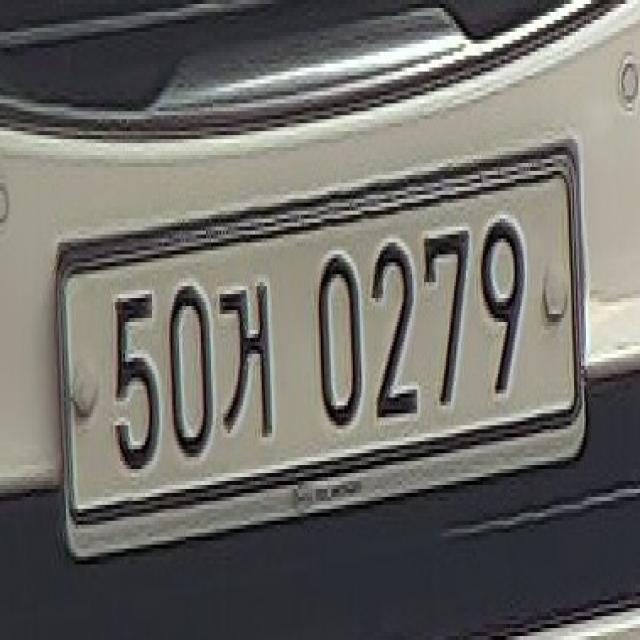0: (314, 250, 366, 430), (166, 273, 213, 466)
2: (370, 236, 418, 425)
5: (100, 282, 160, 480)
7: (423, 220, 474, 420)
9: (478, 206, 530, 407)
geo: (219, 269, 278, 452)
license_plate: (51, 133, 592, 548)
